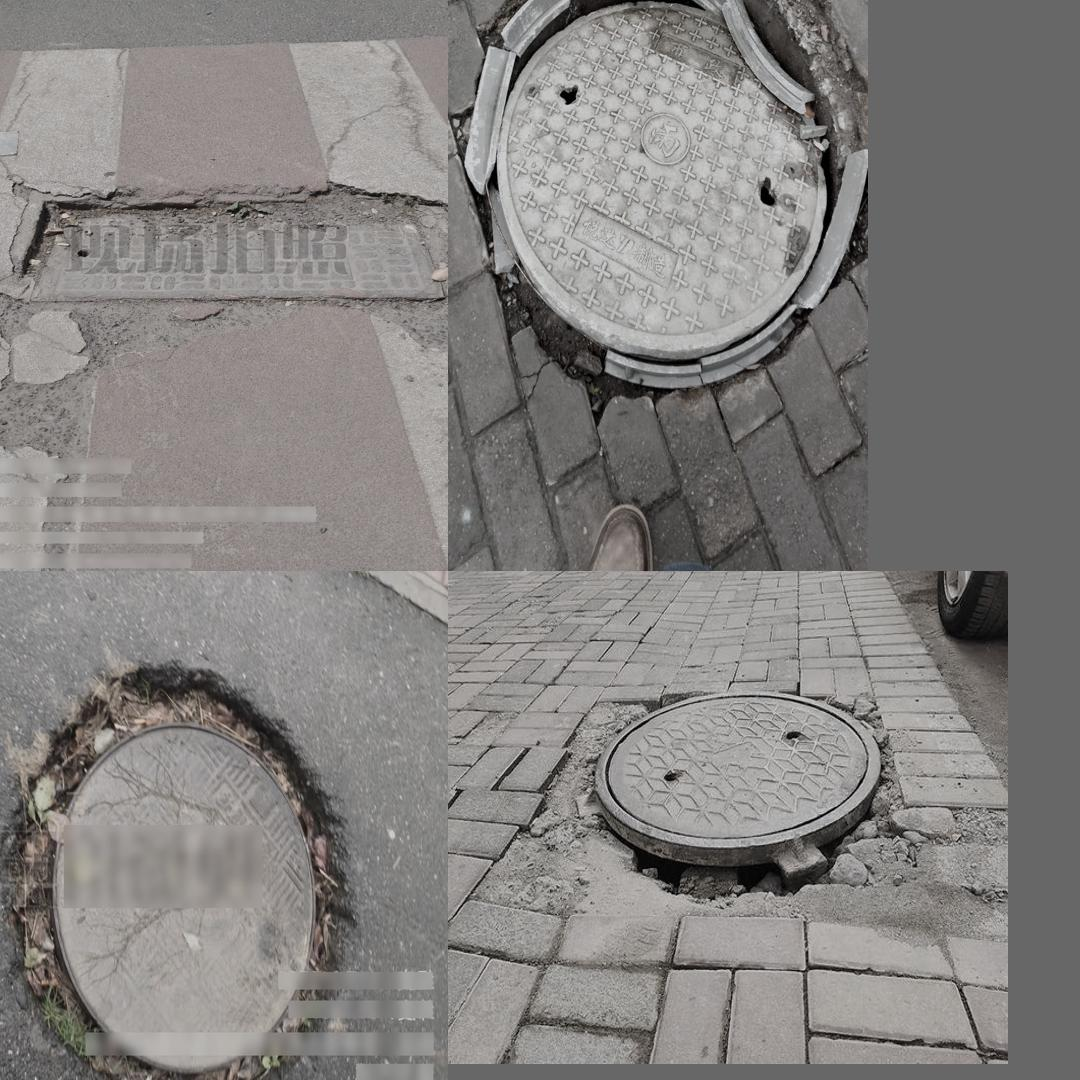circle: (454, 0, 863, 414), (0, 667, 357, 1080), (482, 691, 955, 916), (6, 194, 448, 307)
